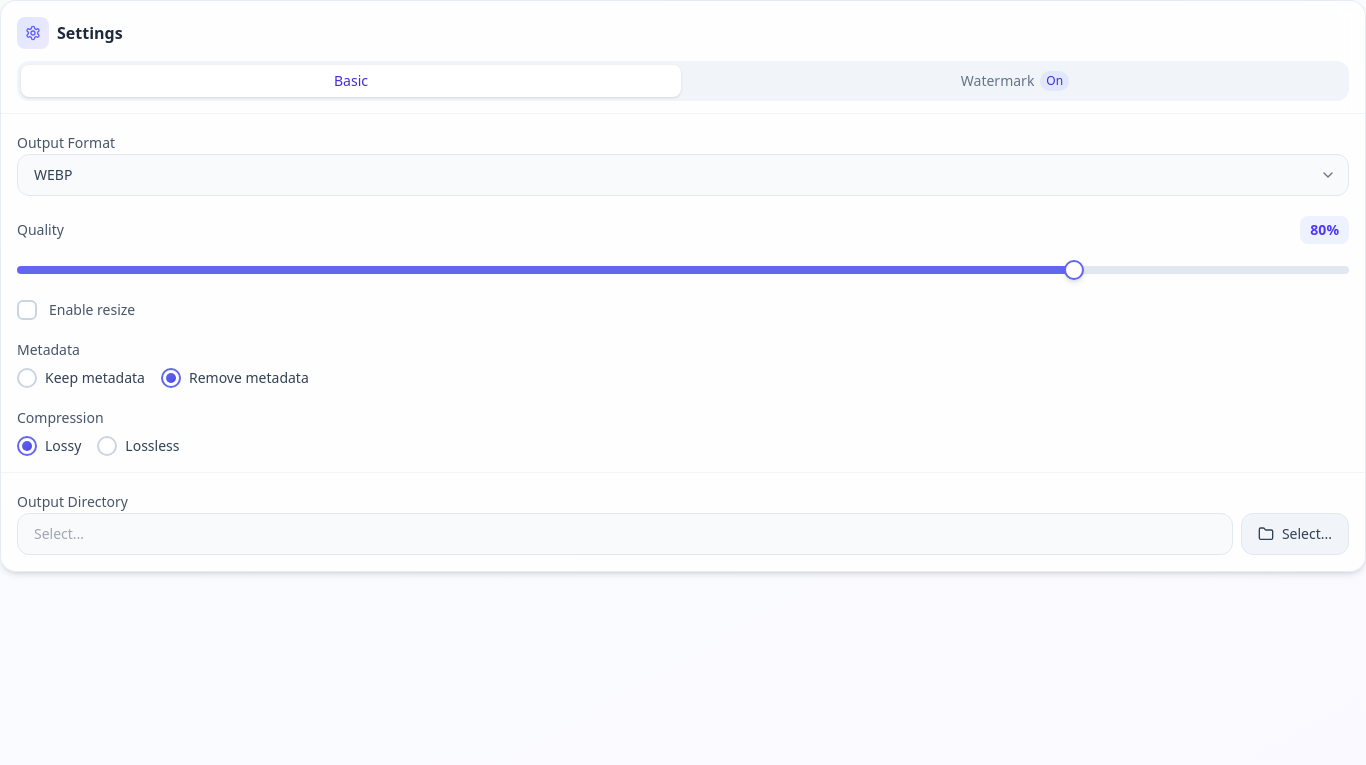
SettingsPanel › ウォーターマーク › 敷き詰め › Spacing (% of image width) は範囲つきのスライダーで、数値として store に入る
Click the tab "Watermark On". click: (1015, 81)
box: [685,65,1345,97]
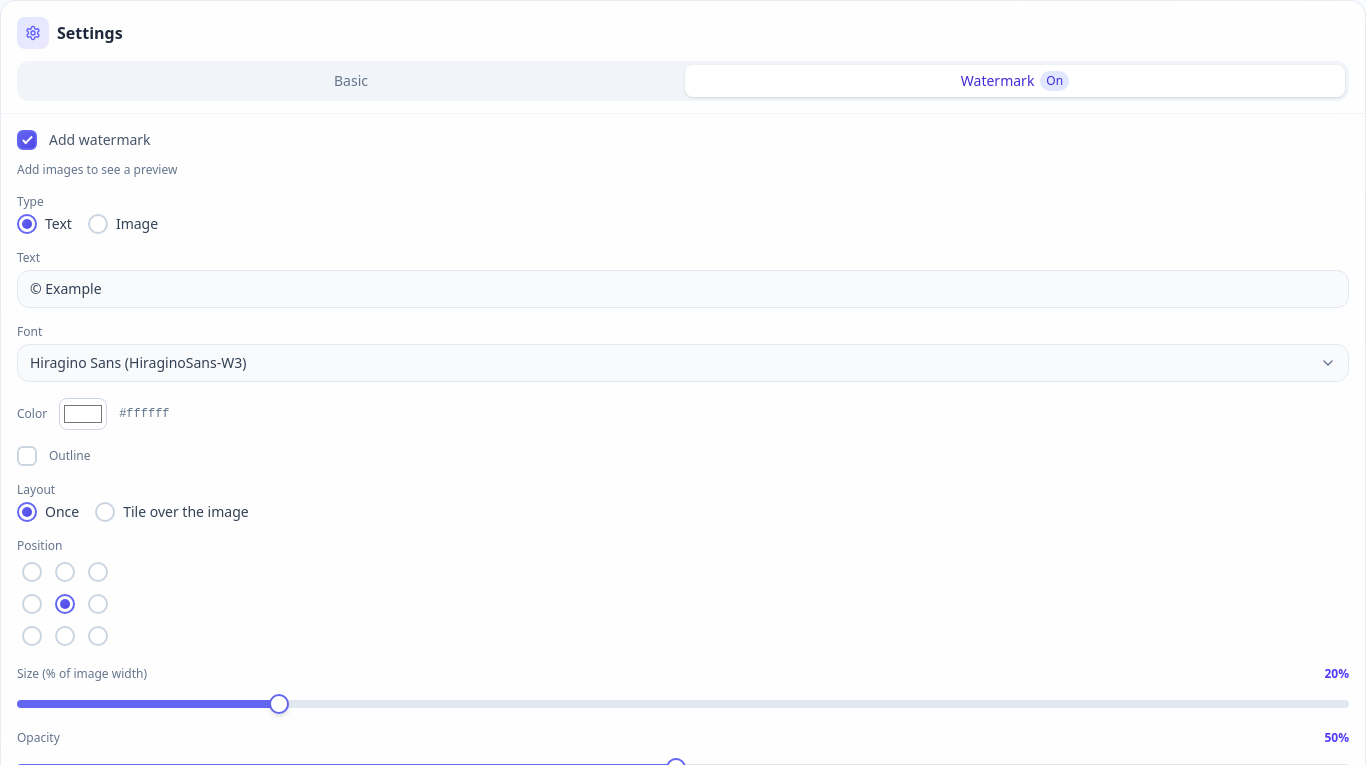
Click the radio button labelled "Tile over the image". click: (105, 512)
box: [95,502,115,522]
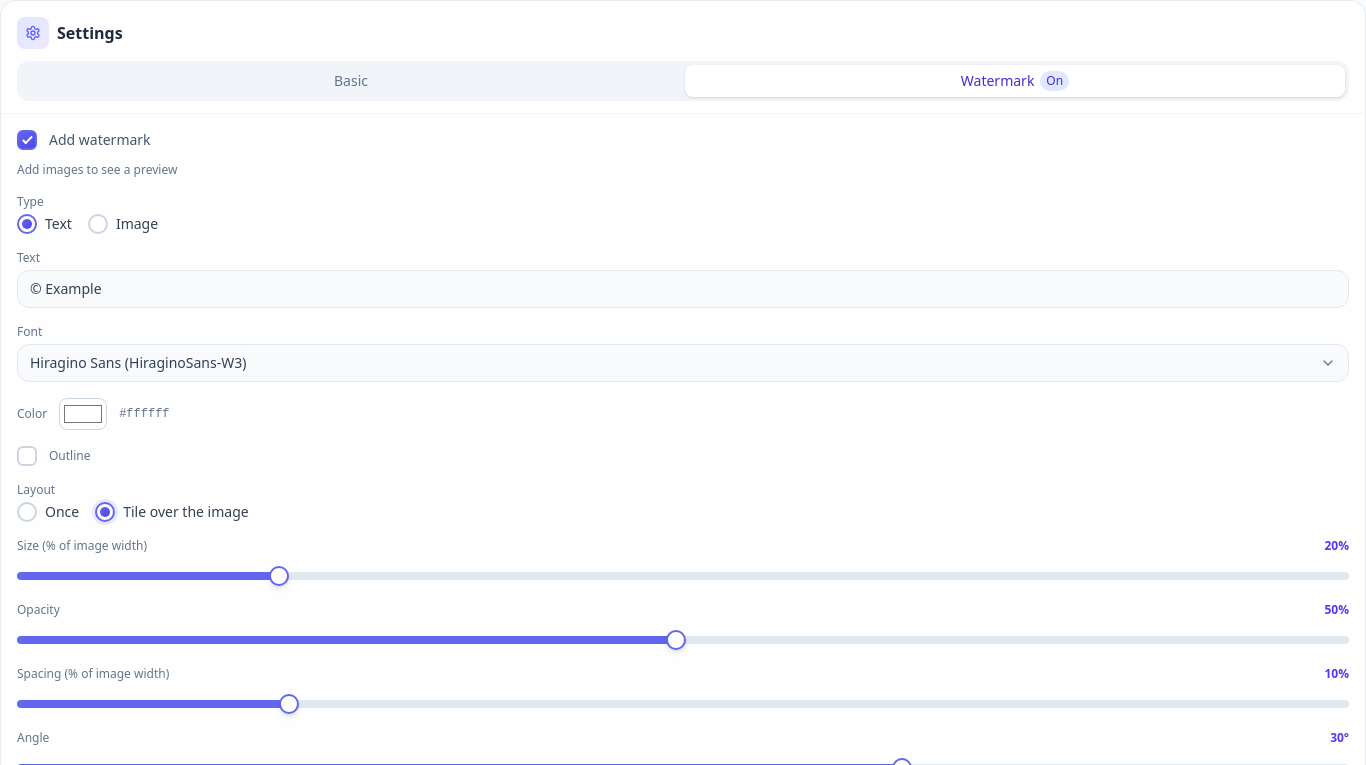
Set the slider labelled "Spacing (% of image width)" to "25". click: (683, 704)
box: [17,700,1349,708]
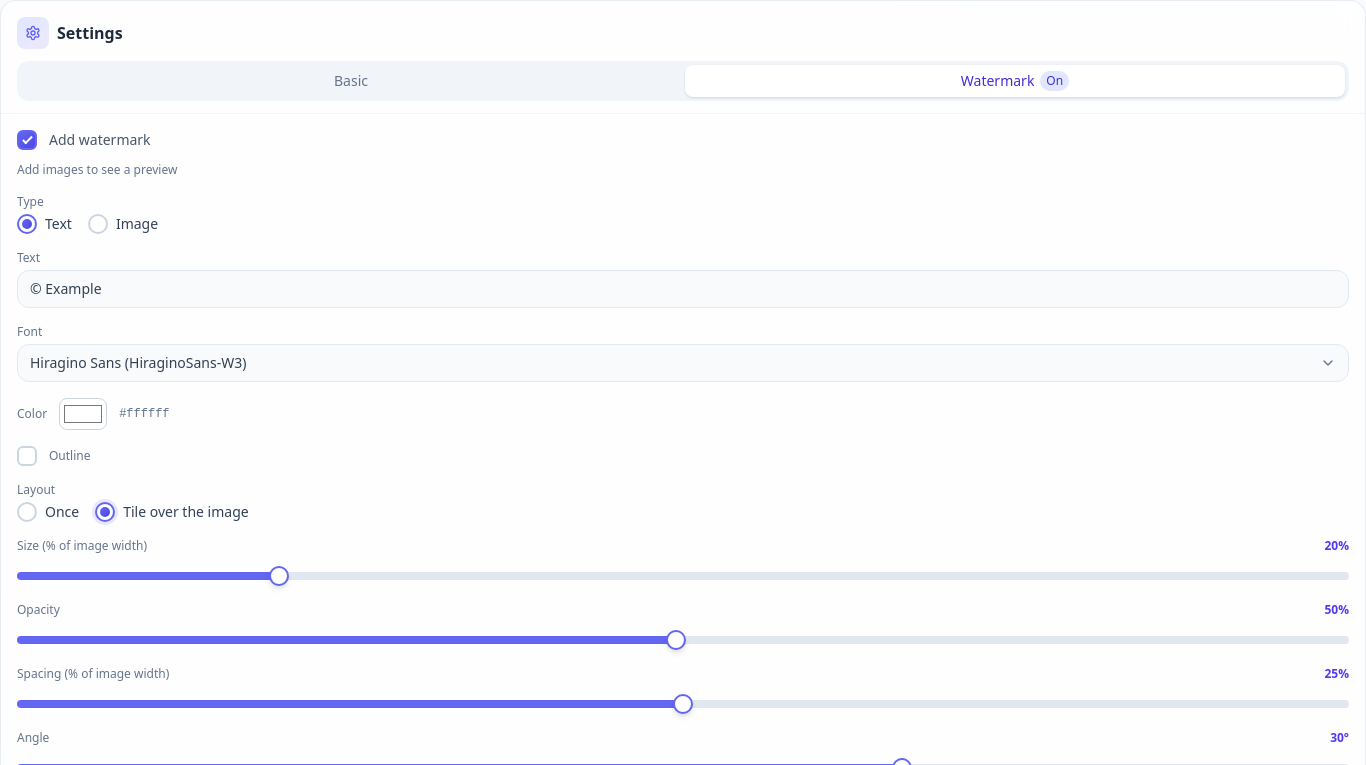
Expected: the text "25%" is shown, [1324,666,1349,682]
